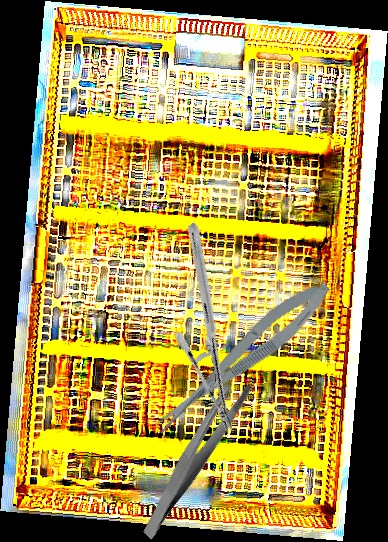Dressing Forceps: (108, 372, 282, 541)
Micro Scissor: (144, 272, 339, 440)
Needle Holder: (110, 221, 311, 434)
